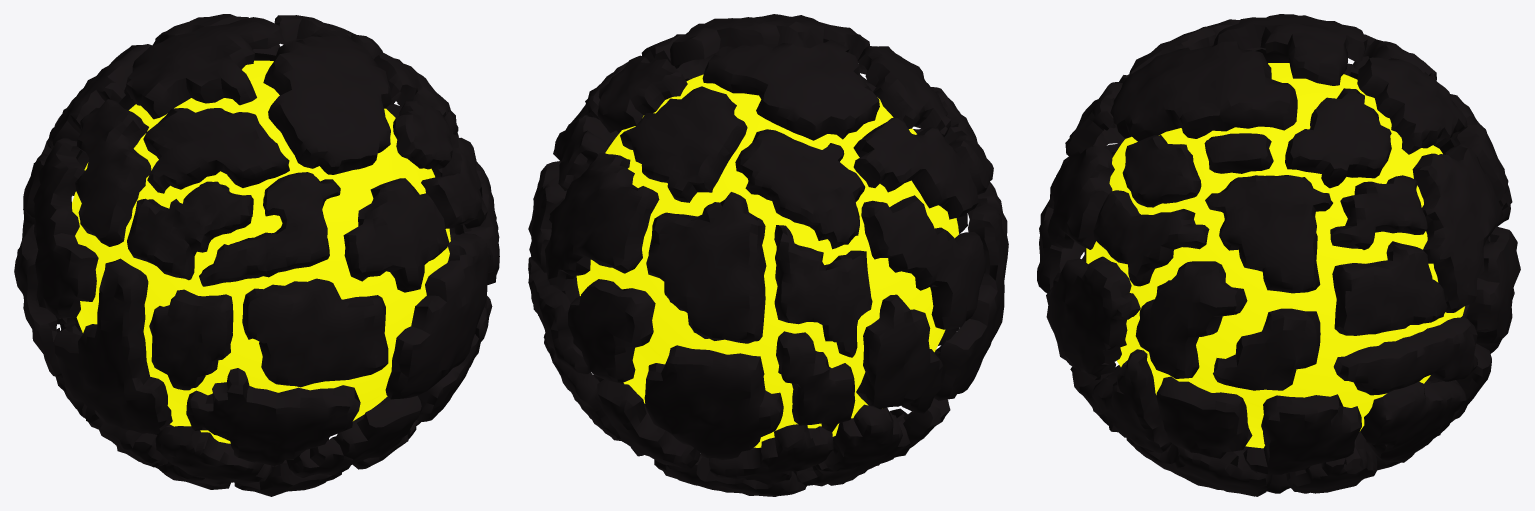
Rendered from LavaBall.fbx.
3 renders of one model, left to right at view 1: azimuth 30°, elevation 25°; view 2: azimuth 150°, elevation 25°; view 3: azimuth 270°, elevation 25°, orthographic.
Parts seen in each view (by area): view 1: LavaSphereBase, LavaChunk (2), LavaChunk (9), LavaChunk (28), LavaChunk (38), LavaChunk (4), LavaChunk (8), LavaChunk (34), LavaChunk (5), LavaChunk (1), LavaChunk (32), LavaChunk (36) (+42 smaller); view 2: LavaSphereBase, LavaChunk (19), LavaChunk (34), LavaChunk (20), LavaChunk (15), LavaChunk (35), LavaChunk (33), LavaChunk (17), LavaChunk (26), LavaChunk (32), LavaChunk (27), LavaChunk (18) (+41 smaller); view 3: LavaSphereBase, LavaChunk (2), LavaChunk (6), LavaChunk (15), LavaChunk (8), LavaChunk (12), LavaChunk (10), LavaChunk (16), LavaChunk (45), LavaChunk (13), LavaChunkAdjusted (2), LavaChunk (14) (+47 smaller).
Boxes of the visible parts, x1=… form: LavaSphereBase: x1=72, y1=60, x2=450, y2=443; LavaChunk (2): x1=263, y1=27, x2=391, y2=174; LavaChunk (9): x1=242, y1=279, x2=388, y2=386; LavaChunk (28): x1=54, y1=258, x2=172, y2=433; LavaChunk (38): x1=186, y1=368, x2=360, y2=465; LavaChunk (4): x1=143, y1=108, x2=289, y2=193; LavaChunk (8): x1=386, y1=233, x2=490, y2=399; LavaChunk (34): x1=126, y1=17, x2=285, y2=119; LavaChunk (5): x1=199, y1=172, x2=340, y2=286; LavaChunk (1): x1=343, y1=178, x2=448, y2=292; LavaChunk (32): x1=75, y1=99, x2=151, y2=246; LavaChunk (36): x1=127, y1=181, x2=253, y2=280; LavaSphereBase: x1=576, y1=74, x2=958, y2=447; LavaChunk (19): x1=646, y1=193, x2=766, y2=343; LavaChunk (34): x1=702, y1=39, x2=879, y2=140; LavaChunk (20): x1=644, y1=345, x2=783, y2=459; LavaChunk (15): x1=545, y1=153, x2=658, y2=290; LavaChunk (35): x1=735, y1=129, x2=865, y2=249; LavaChunk (33): x1=861, y1=195, x2=986, y2=329; LavaChunk (17): x1=620, y1=87, x2=747, y2=202; LavaChunk (26): x1=774, y1=225, x2=872, y2=357; LavaChunk (32): x1=853, y1=117, x2=978, y2=219; LavaChunk (27): x1=856, y1=294, x2=943, y2=413; LavaChunk (18): x1=568, y1=279, x2=655, y2=382; LavaSphereBase: x1=1086, y1=63, x2=1464, y2=448; LavaChunk (2): x1=1110, y1=41, x2=1297, y2=141; LavaChunk (6): x1=1206, y1=175, x2=1332, y2=292; LavaChunk (15): x1=1412, y1=145, x2=1502, y2=312; LavaChunk (8): x1=1046, y1=256, x2=1140, y2=380; LavaChunk (12): x1=1332, y1=241, x2=1445, y2=335; LavaChunk (10): x1=1135, y1=261, x2=1247, y2=378; LavaChunk (16): x1=1285, y1=88, x2=1391, y2=188; LavaChunk (45): x1=1243, y1=394, x2=1361, y2=474; LavaChunk (13): x1=1333, y1=316, x2=1477, y2=395; LavaChunkAdjusted (2): x1=1113, y1=41, x2=1297, y2=139; LavaChunk (14): x1=1213, y1=308, x2=1320, y2=390.
Size of the model in its own units: 101 by 101 by 100.
